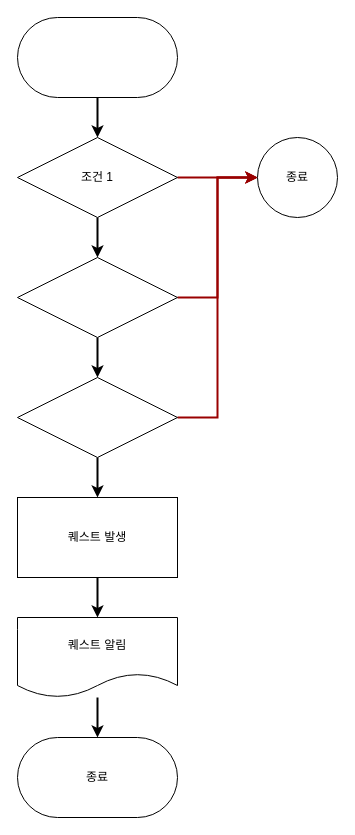
This 355x835 diagram has some shape labels left out. The shapes that lost their labels are listed below. From the top down, each one's centre as x and y in pixels, then its label:
At point (97, 57): "퀘스트 발생 시작".
At point (97, 297): "조건 2".
At point (97, 417): "조건 3".
